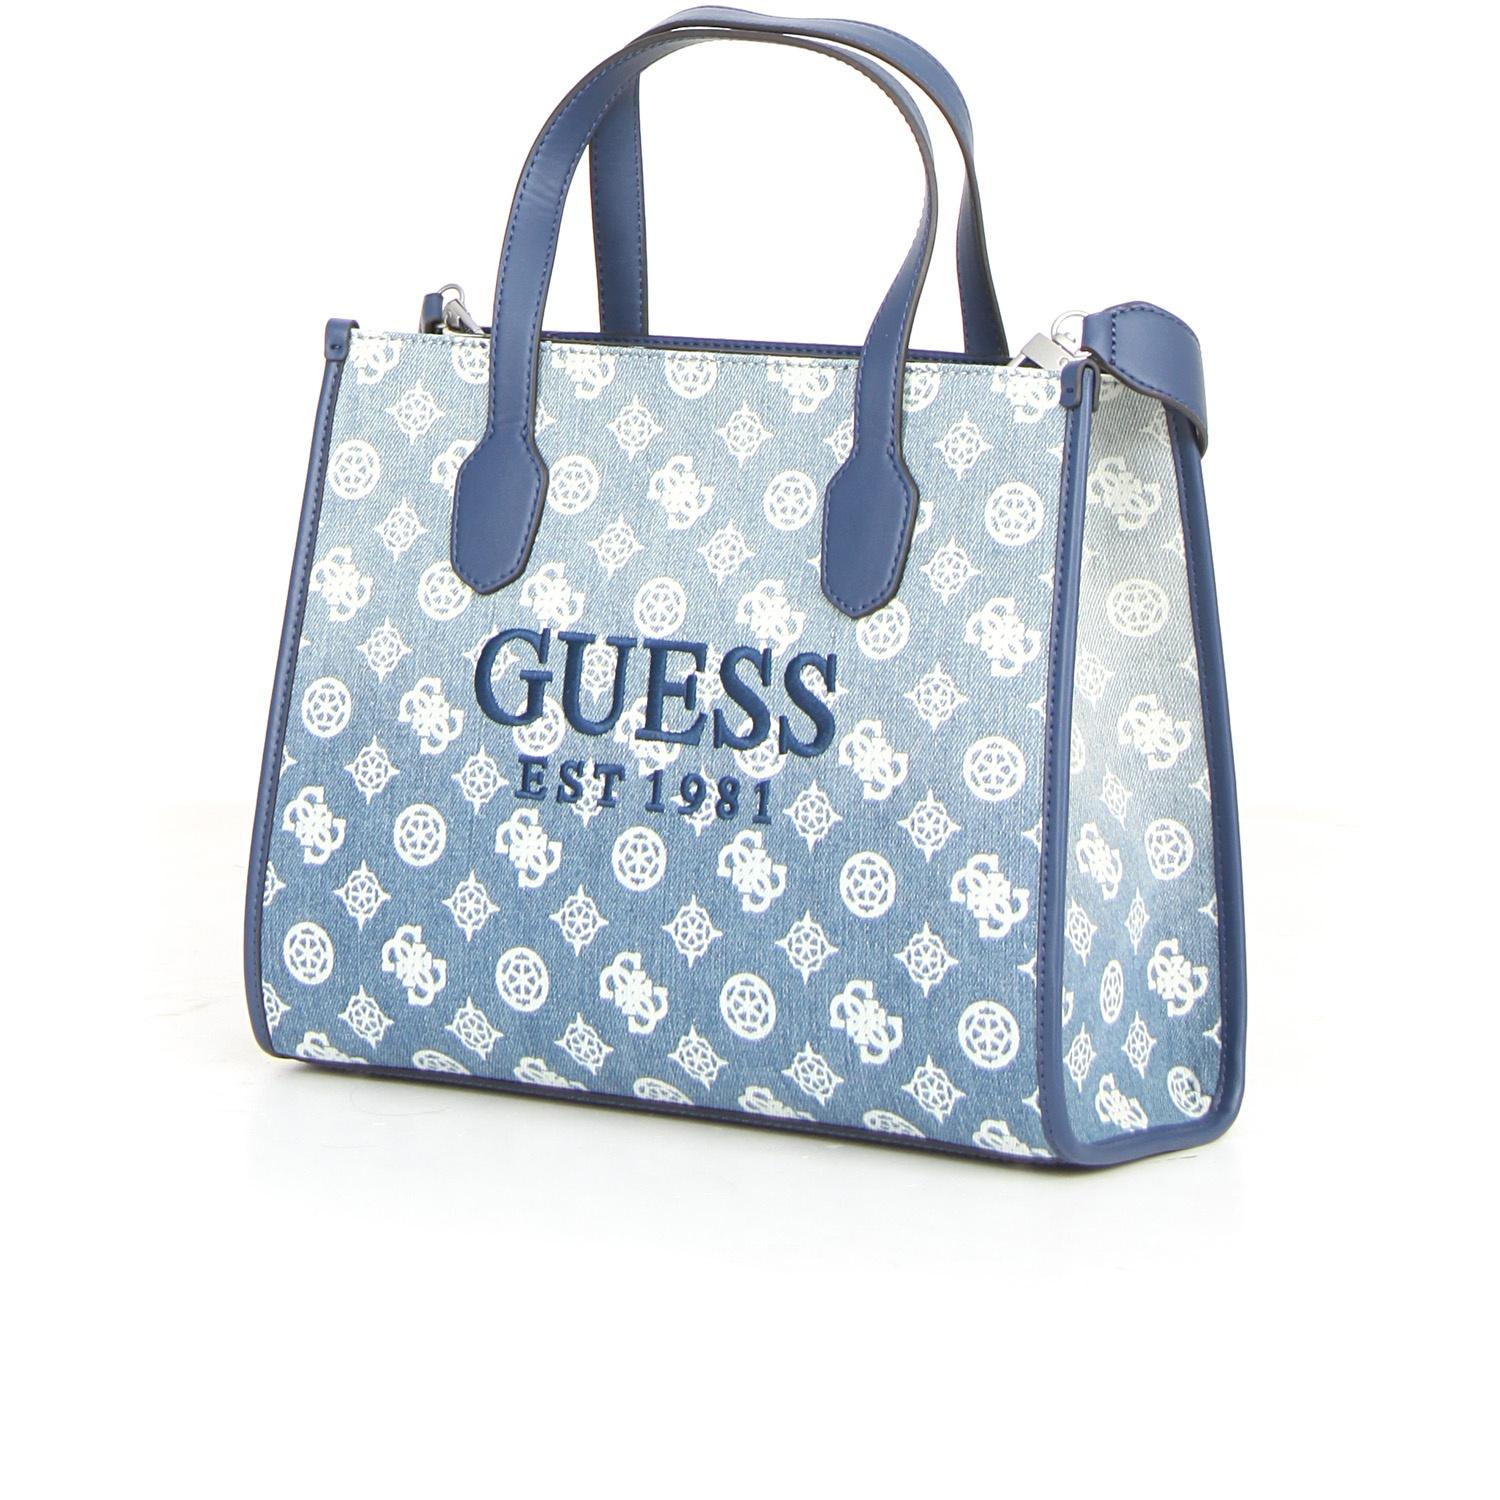GUESS: (474, 625, 835, 758)
